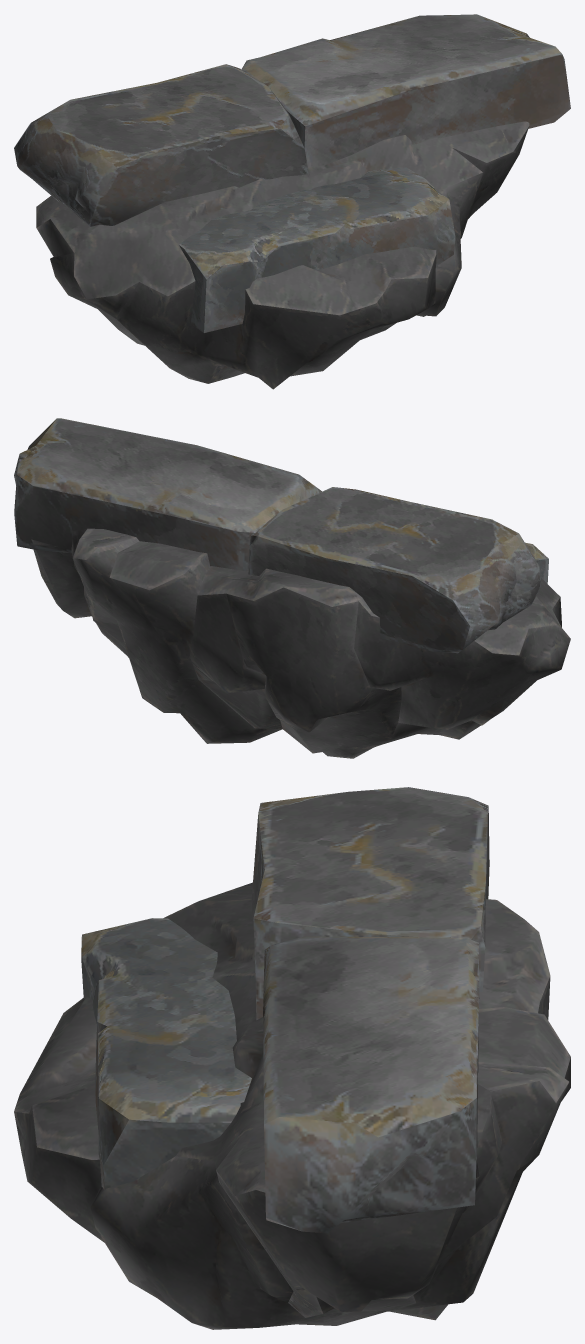
The model's file is SM_Alt_Sta_01CS.fbx.
3 renders of one model, top to bottom at view 1: azimuth 30°, elevation 25°; view 2: azimuth 150°, elevation 25°; view 3: azimuth 270°, elevation 25°, orthographic. The views are drawn at different scales.
Parts seen in each view (by area): view 1: SM_Alt_Sta_01CS.mo; view 2: SM_Alt_Sta_01CS.mo; view 3: SM_Alt_Sta_01CS.mo.
Boxes of the visible parts, left/top/right/bottom form: SM_Alt_Sta_01CS.mo: left=14, top=14, right=570, bottom=389; SM_Alt_Sta_01CS.mo: left=14, top=418, right=570, bottom=758; SM_Alt_Sta_01CS.mo: left=14, top=787, right=570, bottom=1329.
Bounding box in the file's own units: 2.52 × 1.21 × 1.58.
